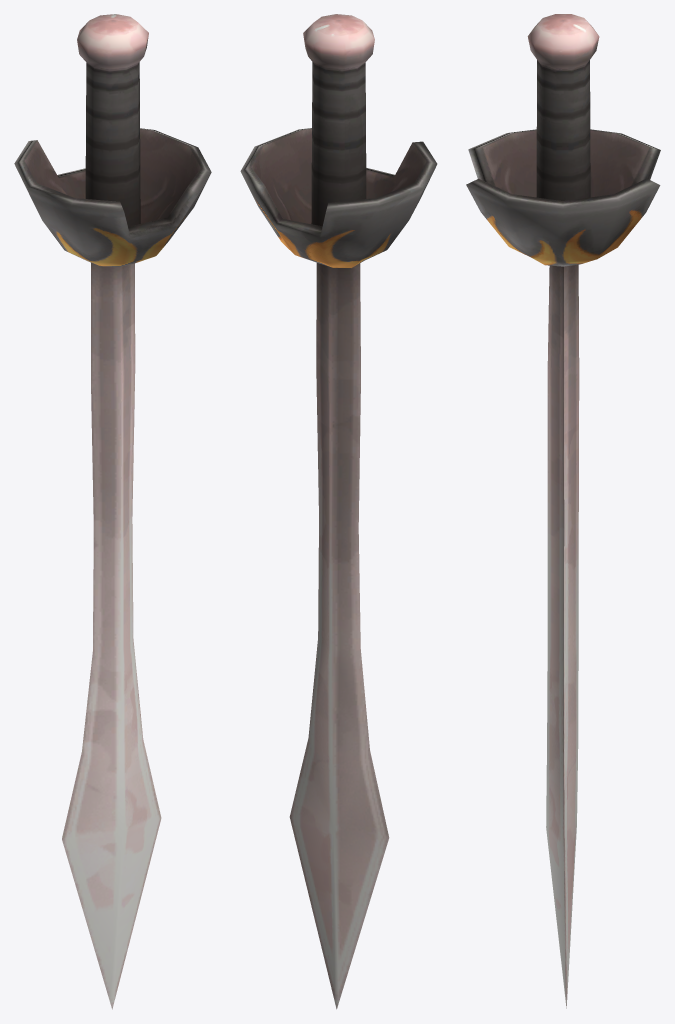
File: TallSword_TRUE_FBX.fbx
3 renders of one model, left to right at view 1: azimuth 30°, elevation 25°; view 2: azimuth 150°, elevation 25°; view 3: azimuth 270°, elevation 25°, orthographic.
Visible parts, largest first — view 1: TallSword; view 2: TallSword; view 3: TallSword.
Boxes of the visible parts, x1,y1,x2,y2 form: TallSword: (14, 14, 211, 1009); TallSword: (240, 14, 437, 1009); TallSword: (466, 14, 660, 1008).
Size of the model in its own units: 0.2992 by 0.2976 by 1.67.
